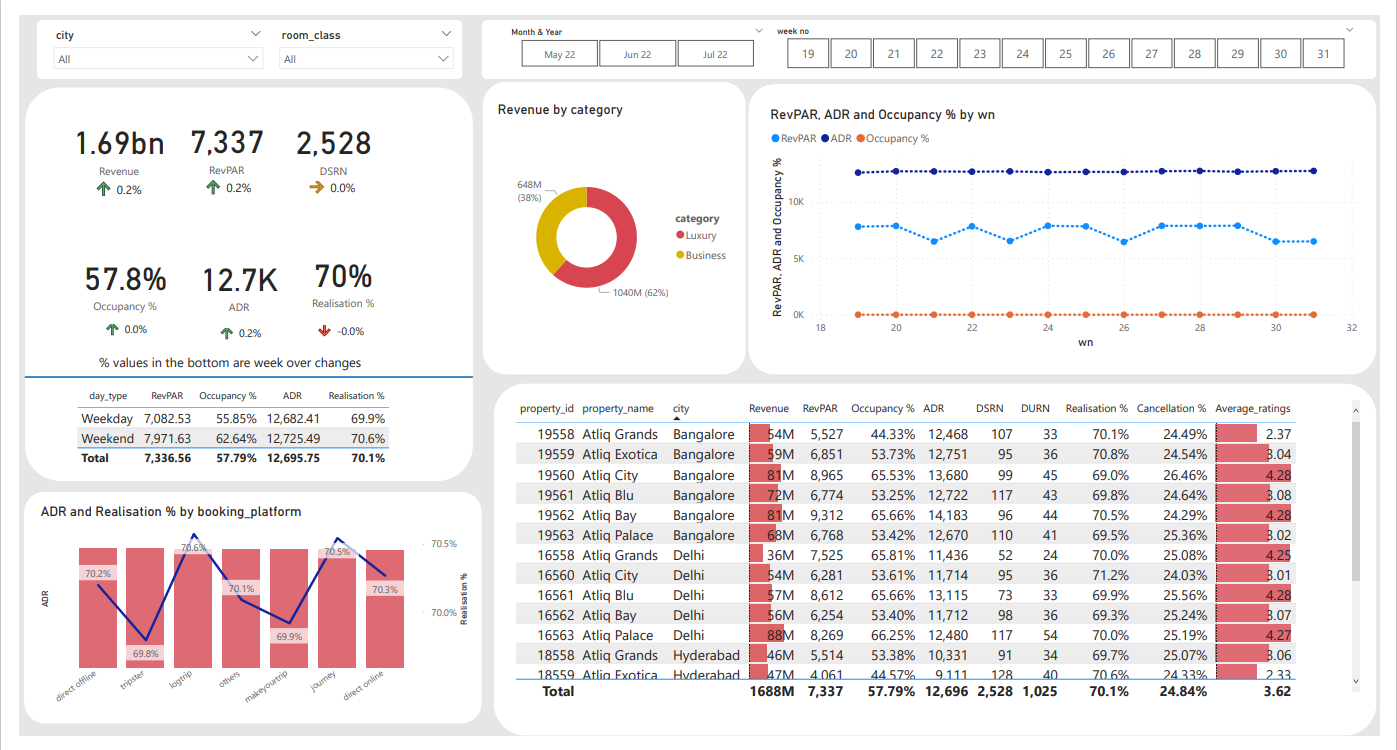

The page's visual inventory and layout, read from the dashboard file:
{"tool":"powerbi","page":{"name":"Main Dashboard","canvas":[1700,900],"ordinal":0},"visuals":[{"type":"shape","box":[911.2,86.5,784.5,362.9],"z":0},{"type":"slicer","fields":{"Values":["dim_hotels.city"]},"box":[33.3,11.7,282.2,56.7],"z":1000,"group":"g1"},{"type":"shape","box":[579.1,83.4,328.9,366],"z":1000},{"type":"slicer","fields":{"Values":["dim_rooms.room_class"]},"box":[315.5,11.7,237.8,56.7],"z":2000,"group":"g1"},{"type":"shape","box":[593,460.2,1102.7,440.1],"z":2000},{"type":"shape","box":[6.2,594.6,571.4,290.3],"z":3000},{"type":"shape","box":[6.2,89.6,560.6,505],"z":4000},{"type":"shape","box":[577.6,6.2,1118.1,74.1],"z":5000},{"type":"shape","box":[21.6,6.2,532.8,74.1],"z":6000},{"type":"group","id":"g1","title":"Group 5","box":[33.3,11.7,520,56.7],"z":6001,"group":"g2"},{"type":"tableEx","fields":{"Values":["dim_hotels.property_id","dim_hotels.property_name","dim_hotels.city","key_measures.Revenue","key_measures.RevPAR","key_measures.Occupancy %","key_measures.ADR","key_measures.DSRN","key_measures.DURN","key_measures.Realisation %","key_measures.Cancellation %","key_measures.Average_ratings"]},"box":[614.6,475.7,1065.6,383],"z":7000},{"type":"tableEx","fields":{"Values":["key_measures.Revpar WoW change %"]},"box":[221.7,170,95,68.3],"z":8000},{"type":"slicer","fields":{"Values":["dim_date.mmm yy"]},"box":[601.7,10,340,61],"z":9000},{"type":"lineClusteredColumnComboChart","fields":{"Category":["fact_bookings.booking_platform"],"Y":["key_measures.ADR"],"Y2":["key_measures.Realisation %"]},"box":[21.6,610,545.2,264.1],"z":10000},{"type":"slicer","fields":{"Values":["dim_date.wn"]},"box":[934.3,7.7,745.9,64.9],"z":11000},{"type":"tableEx","fields":{"Values":["dim_date.day_type","key_measures.RevPAR","key_measures.Occupancy %","key_measures.ADR","key_measures.Realisation %"]},"box":[55,475,415,118.3],"z":12000},{"type":"tableEx","title":".","fields":{"Values":["key_measures.Revenue WoW change %"]},"box":[85,171.7,96.7,61.7],"z":13000},{"type":"lineChart","fields":{"Y":["key_measures.RevPAR","key_measures.ADR","key_measures.Occupancy %"],"Category":["dim_date.wn"]},"box":[934.3,114.3,745.9,307.3],"z":14000},{"type":"tableEx","fields":{"Values":["key_measures.Occupancy WoW change %"]},"box":[96.7,348.3,106.7,78.3],"z":15000},{"type":"group","id":"g2","title":"Group 3","box":[33.3,11.7,520,56.7],"z":16000},{"type":"tableEx","fields":{"Values":["key_measures.DSRN WoW change %"]},"box":[351.7,170,96.7,78.3],"z":17000},{"type":"donutChart","fields":{"Y":["key_measures.Revenue"],"Category":["dim_hotels.category"]},"box":[593,108.1,305.8,319.7],"z":18000},{"type":"tableEx","fields":{"Values":["key_measures.ADR WoW change %"]},"box":[240,353.3,95,65],"z":19000},{"type":"tableEx","fields":{"Values":["key_measures.Realisation WoW change %"]},"box":[361.7,350,98.3,63.3],"z":20000},{"type":"card","fields":{"Values":["key_measures.DSRN"]},"box":[323.3,121.7,140,85],"z":21000},{"type":"card","fields":{"Values":["key_measures.Revenue"]},"box":[51.7,121.7,146.7,85],"z":22000},{"type":"card","fields":{"Values":["key_measures.RevPAR"]},"box":[193.1,120.4,133.2,85.5],"z":23000},{"type":"card","fields":{"Values":["key_measures.Occupancy %"]},"box":[51.7,283.3,161.7,101.7],"z":24000},{"type":"card","fields":{"Values":["key_measures.Realisation %"]},"box":[335,273.3,140,113.3],"z":25000},{"type":"card","fields":{"Values":["key_measures.ADR"]},"box":[205,280,140,110],"z":26000},{"type":"shape","box":[6.2,370.6,560.6,190],"z":27000},{"type":"textbox","box":[95,428.3,360,31.7],"z":28000}]}

Visuals, with their boxes in screenshot pixels (x1, y1, x2, y2), scaled from the page's 1700x900 canvas onto the 1397x750 screenshot:
shape: (749,72,1393,374)
slicer - dim_hotels.city: (27,10,259,57)
shape: (476,70,746,374)
slicer - dim_rooms.room_class: (259,10,455,57)
shape: (487,384,1393,749)
shape: (5,496,475,737)
shape: (5,75,466,496)
shape: (475,5,1393,67)
shape: (18,5,456,67)
"Group 5" group: (27,10,455,57)
tableEx - dim_hotels.property_id x dim_hotels.property_name: (505,396,1381,716)
tableEx - key_measures.Revpar WoW change %: (182,142,260,199)
slicer - dim_date.mmm yy: (494,8,774,59)
lineClusteredColumnComboChart - fact_bookings.booking_platform x key_measures.ADR: (18,508,466,728)
slicer - dim_date.wn: (768,6,1381,61)
tableEx - dim_date.day_type x key_measures.RevPAR: (45,396,386,494)
"." tableEx: (70,143,149,194)
lineChart - key_measures.RevPAR x key_measures.ADR: (768,95,1381,351)
tableEx - key_measures.Occupancy WoW change %: (79,290,167,356)
"Group 3" group: (27,10,455,57)
tableEx - key_measures.DSRN WoW change %: (289,142,368,207)
donutChart - key_measures.Revenue x dim_hotels.category: (487,90,739,356)
tableEx - key_measures.ADR WoW change %: (197,294,275,349)
tableEx - key_measures.Realisation WoW change %: (297,292,378,344)
card - key_measures.DSRN: (266,101,381,172)
card - key_measures.Revenue: (42,101,163,172)
card - key_measures.RevPAR: (159,100,268,172)
card - key_measures.Occupancy %: (42,236,175,321)
card - key_measures.Realisation %: (275,228,390,322)
card - key_measures.ADR: (168,233,284,325)
shape: (5,309,466,467)
textbox: (78,357,374,383)
